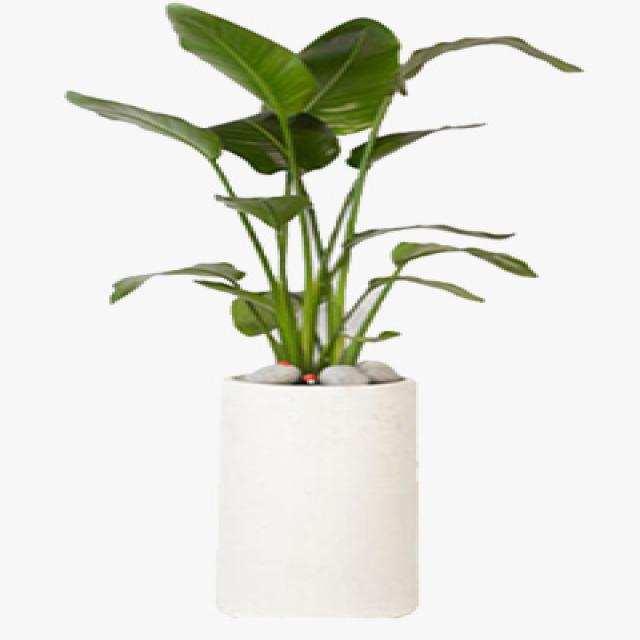Plant Pot: (174, 338, 466, 632)
